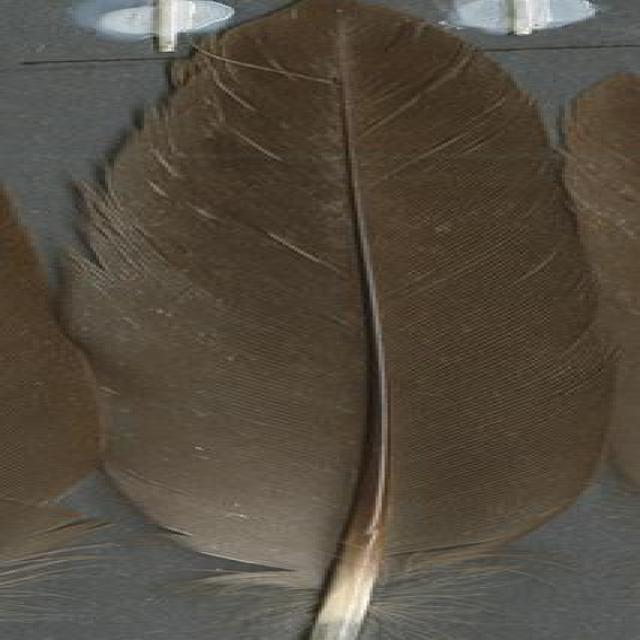feather: (0, 177, 116, 598)
